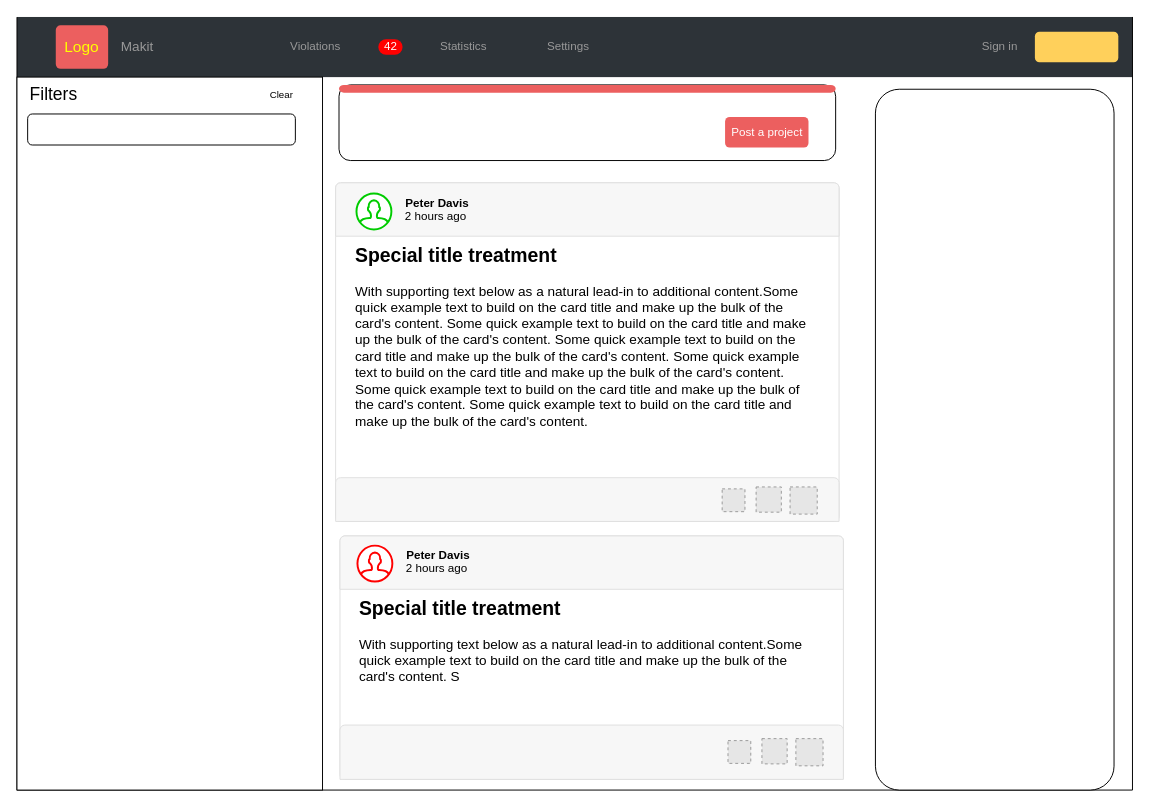
Some shapes in this 1150 by 808 pixel diagram are drawn without their labels. Grey dashed boxes stand in for pictures. Each missing label, with the box of its shape:
Entity: (874, 88, 1114, 790)
Register: (1034, 31, 1118, 62)
